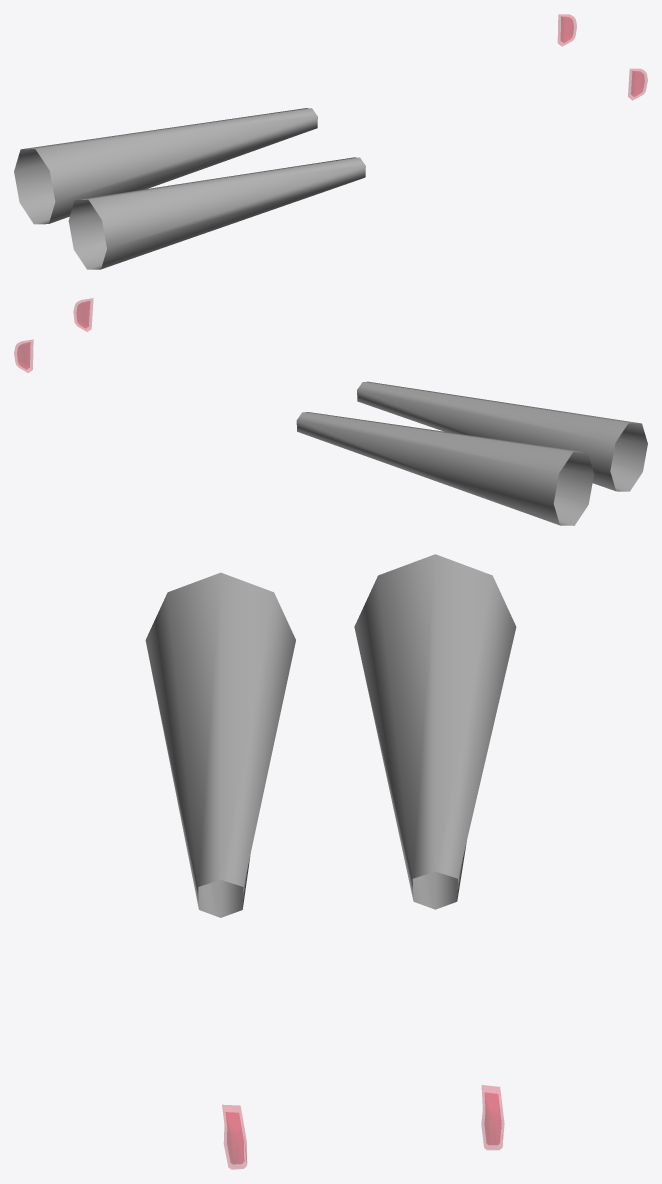
File: lightGlows01.fbx
3 views of the same model, one above another, from view 1: azimuth 30°, elevation 25°; view 2: azimuth 150°, elevation 25°; view 3: azimuth 270°, elevation 25° (orthographic). The views are drawn at different scales.
Parts seen in each view (by area): view 1: JCallaci_bronco_01:pCone2, JCallaci_bronco_01:pCone1, JCallaci_bronco_01:pCube4, JCallaci_bronco_01:pCube2; view 2: JCallaci_bronco_01:pCone2, JCallaci_bronco_01:pCone1, JCallaci_bronco_01:pCube2, JCallaci_bronco_01:pCube4; view 3: JCallaci_bronco_01:pCone2, JCallaci_bronco_01:pCone1, JCallaci_bronco_01:pCube2, JCallaci_bronco_01:pCube4.
Boxes of the visible parts, x1,y1,x2,y2 form: JCallaci_bronco_01:pCone2: (14,108,317,224); JCallaci_bronco_01:pCone1: (68,157,365,269); JCallaci_bronco_01:pCube4: (558,14,576,46); JCallaci_bronco_01:pCube2: (628,69,647,100); JCallaci_bronco_01:pCone2: (296,412,593,525); JCallaci_bronco_01:pCone1: (357,381,647,491); JCallaci_bronco_01:pCube2: (73,298,93,331); JCallaci_bronco_01:pCube4: (14,340,33,372); JCallaci_bronco_01:pCone2: (354,554,516,909); JCallaci_bronco_01:pCone1: (145,572,295,917); JCallaci_bronco_01:pCube2: (222,1105,246,1169); JCallaci_bronco_01:pCube4: (481,1085,504,1149).
Bounding box in the file's own units: 52.26 × 7.08 × 15.21.
